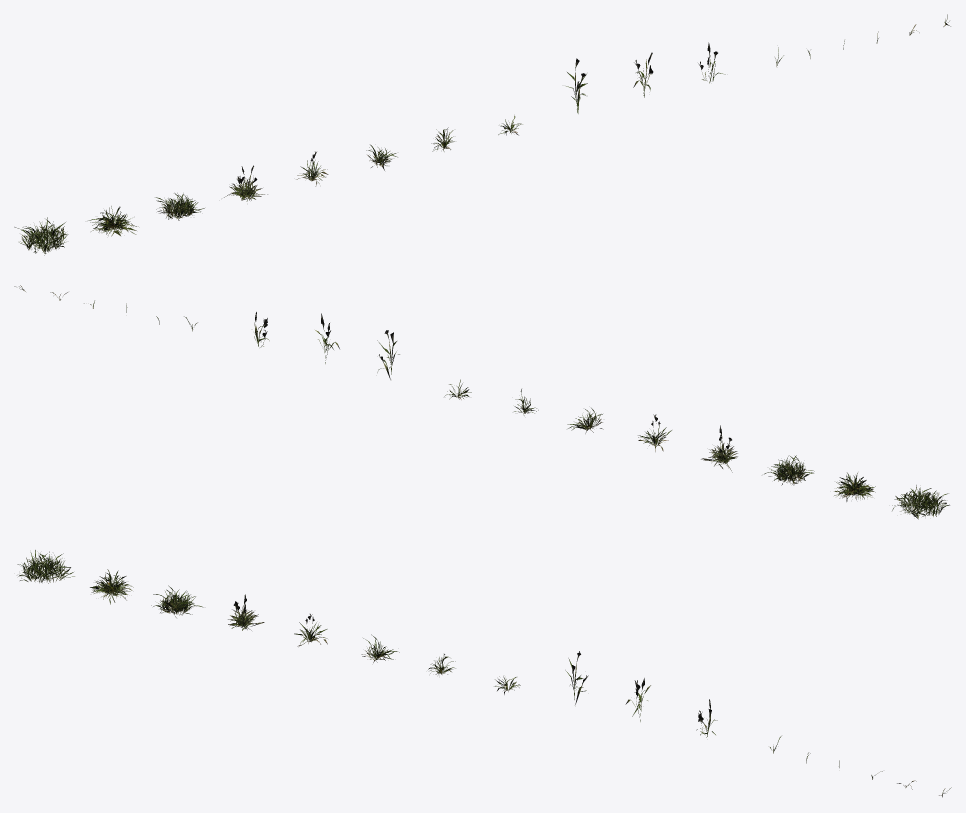
Rendered from grass.glb.
3 views of the same model, one above another, from view 1: azimuth 30°, elevation 25°; view 2: azimuth 150°, elevation 25°; view 3: azimuth 330°, elevation 25° (orthographic).
Parts seen in each view (by area): view 1: grass_medium_01_large_a_LOD0, grass_medium_01_large_c_LOD0, grass_medium_01_large_b_LOD0; view 2: grass_medium_01_large_a_LOD0, grass_medium_01_large_c_LOD0, grass_medium_01_large_b_LOD0; view 3: grass_medium_01_large_a_LOD0, grass_medium_01_large_c_LOD0, grass_medium_01_large_b_LOD0.
Part boxes in pixels (x1,y1,x2,y2): grass_medium_01_large_a_LOD0: (14,217,68,255); grass_medium_01_large_c_LOD0: (155,193,204,220); grass_medium_01_large_b_LOD0: (88,206,138,236); grass_medium_01_large_a_LOD0: (892,485,949,519); grass_medium_01_large_c_LOD0: (764,455,814,485); grass_medium_01_large_b_LOD0: (834,472,875,501); grass_medium_01_large_a_LOD0: (17,550,74,583); grass_medium_01_large_c_LOD0: (151,585,203,617); grass_medium_01_large_b_LOD0: (90,569,133,604).
Bounding box in the file's own units: 5.6 × 0.3426 × 0.3264.
1 material, 1 textured.
